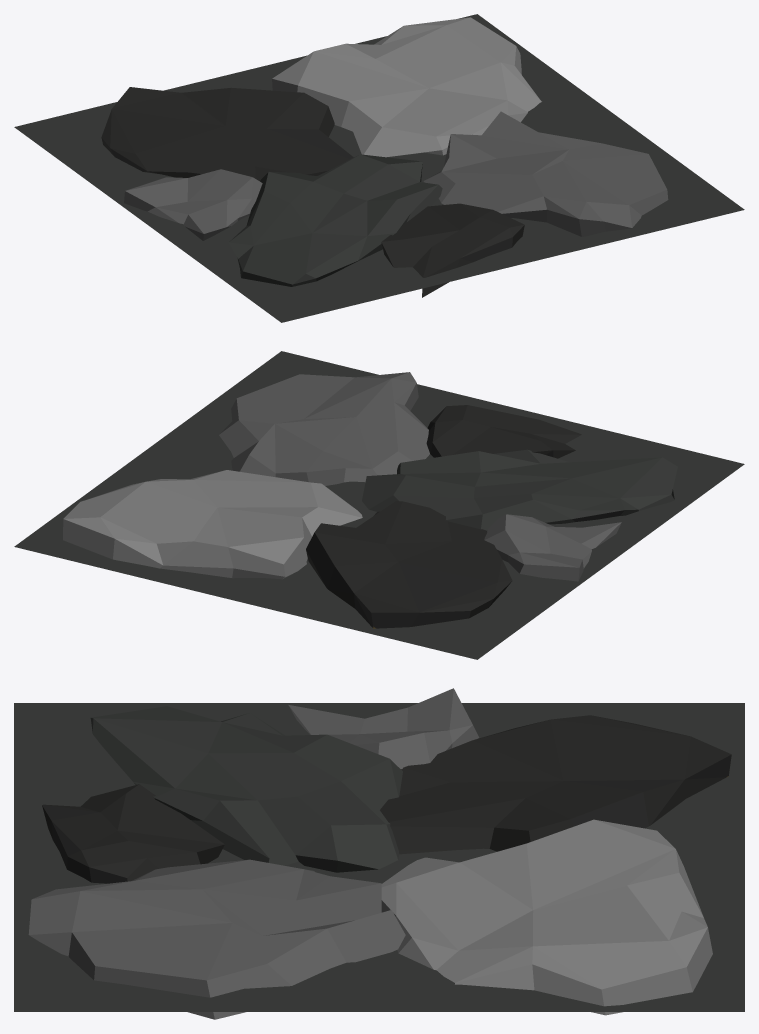
The model's file is ground.fbx.
3 views of the same model, one above another, from view 1: azimuth 30°, elevation 25°; view 2: azimuth 150°, elevation 25°; view 3: azimuth 270°, elevation 25° (orthographic). The views are drawn at different scales.
Visible parts, largest first — view 1: ground1_LOD0; view 2: ground1_LOD0; view 3: ground1_LOD0.
Part boxes in pixels (x1,y1,x2,y2): ground1_LOD0: (14, 14, 744, 322); ground1_LOD0: (14, 351, 744, 659); ground1_LOD0: (14, 688, 744, 1019).
Size of what is drawn, in the model's own units: 8 by 0.8509 by 8.
